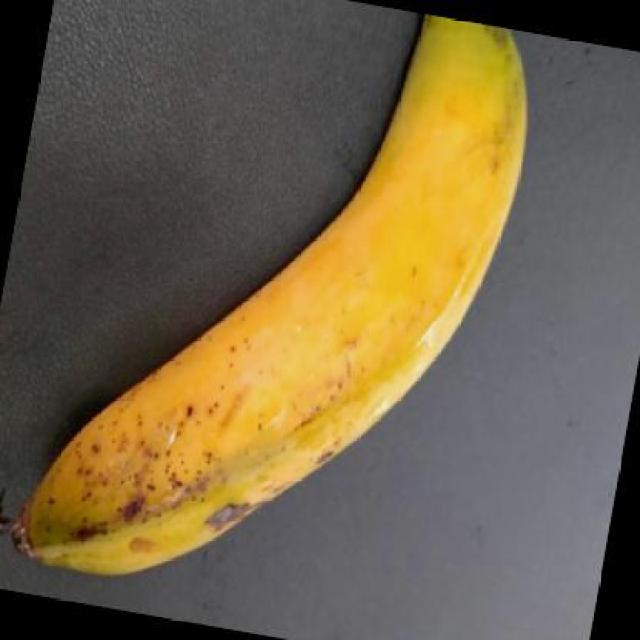Ripe: (3, 0, 543, 589)
